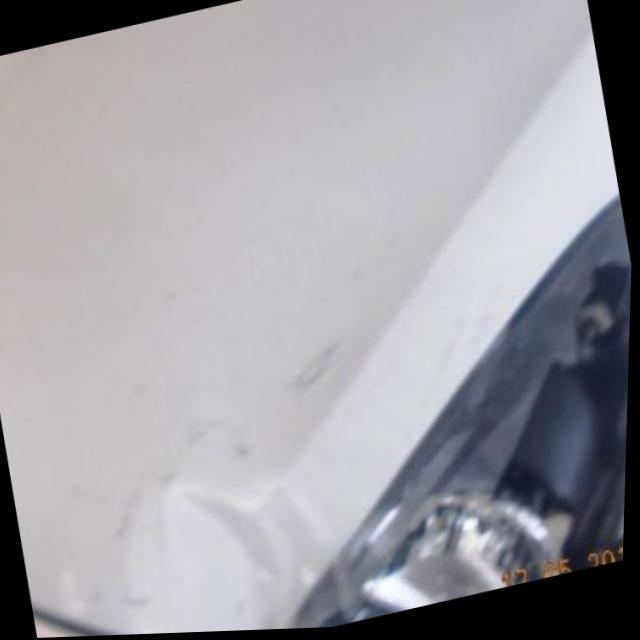dent: (157, 473, 331, 634)
lamp broken: (321, 243, 633, 630)
